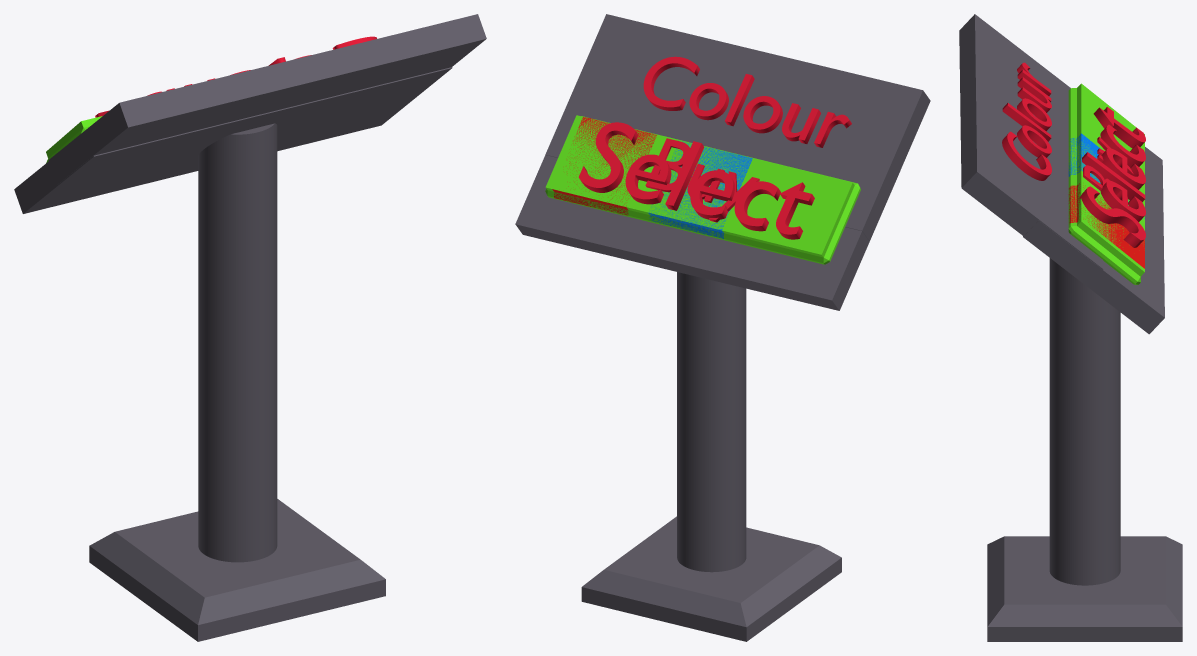
File: Buy_Stand_Buttons.glb
3 views of the same model, side by side, from view 1: azimuth 30°, elevation 25°; view 2: azimuth 150°, elevation 25°; view 3: azimuth 270°, elevation 25° (orthographic). The views are drawn at different scales.
Parts seen in each view (by area): view 1: Pole, Base, Extended Stand, Hold For Button; view 2: Extended Stand, Pole, Base, Button Base.001, Hold For Button, Select Text.001, Select Text.002, Right Button, Middle Button, Left Button, Select Text; view 3: Pole, Base, Extended Stand, Hold For Button, Button Base.001, Select Text.001, Select Text.002, Left Button, Middle Button, Right Button, Select Text.
Boxes of the visible parts, x1,y1,x2,y2 form: Pole: (198,123,277,562); Base: (89,499,385,641); Extended Stand: (48,14,486,184); Hold For Button: (14,67,452,213); Extended Stand: (545,14,930,241); Pole: (677,272,746,572); Base: (581,516,841,641); Button Base.001: (545,115,860,264); Hold For Button: (515,155,899,310); Select Text.001: (578,122,814,239); Select Text.002: (643,56,851,147); Right Button: (744,163,852,261); Middle Button: (648,140,752,238); Left Button: (552,117,656,215); Select Text: (645,138,759,222); Pole: (1049,258,1120,585); Base: (987,536,1182,641); Extended Stand: (959,14,1103,269); Hold For Button: (1023,147,1164,334); Button Base.001: (1068,83,1144,284); Select Text.001: (1079,107,1145,247); Select Text.002: (1002,62,1051,180); Left Button: (1068,183,1144,268); Middle Button: (1068,133,1144,218); Right Button: (1069,90,1139,167); Select Text: (1083,136,1133,204).
Size of the model in its own units: 1.18 by 1.76 by 0.7034.
